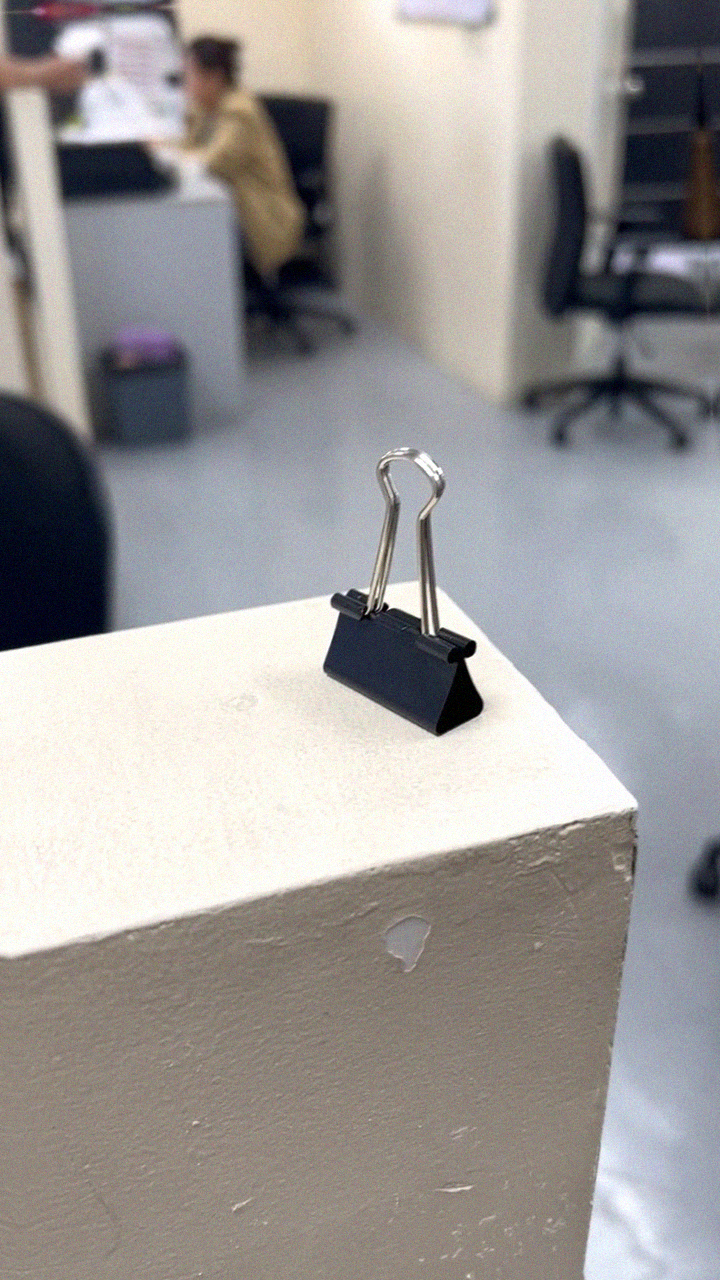kep_giay: (311, 441, 489, 744)
